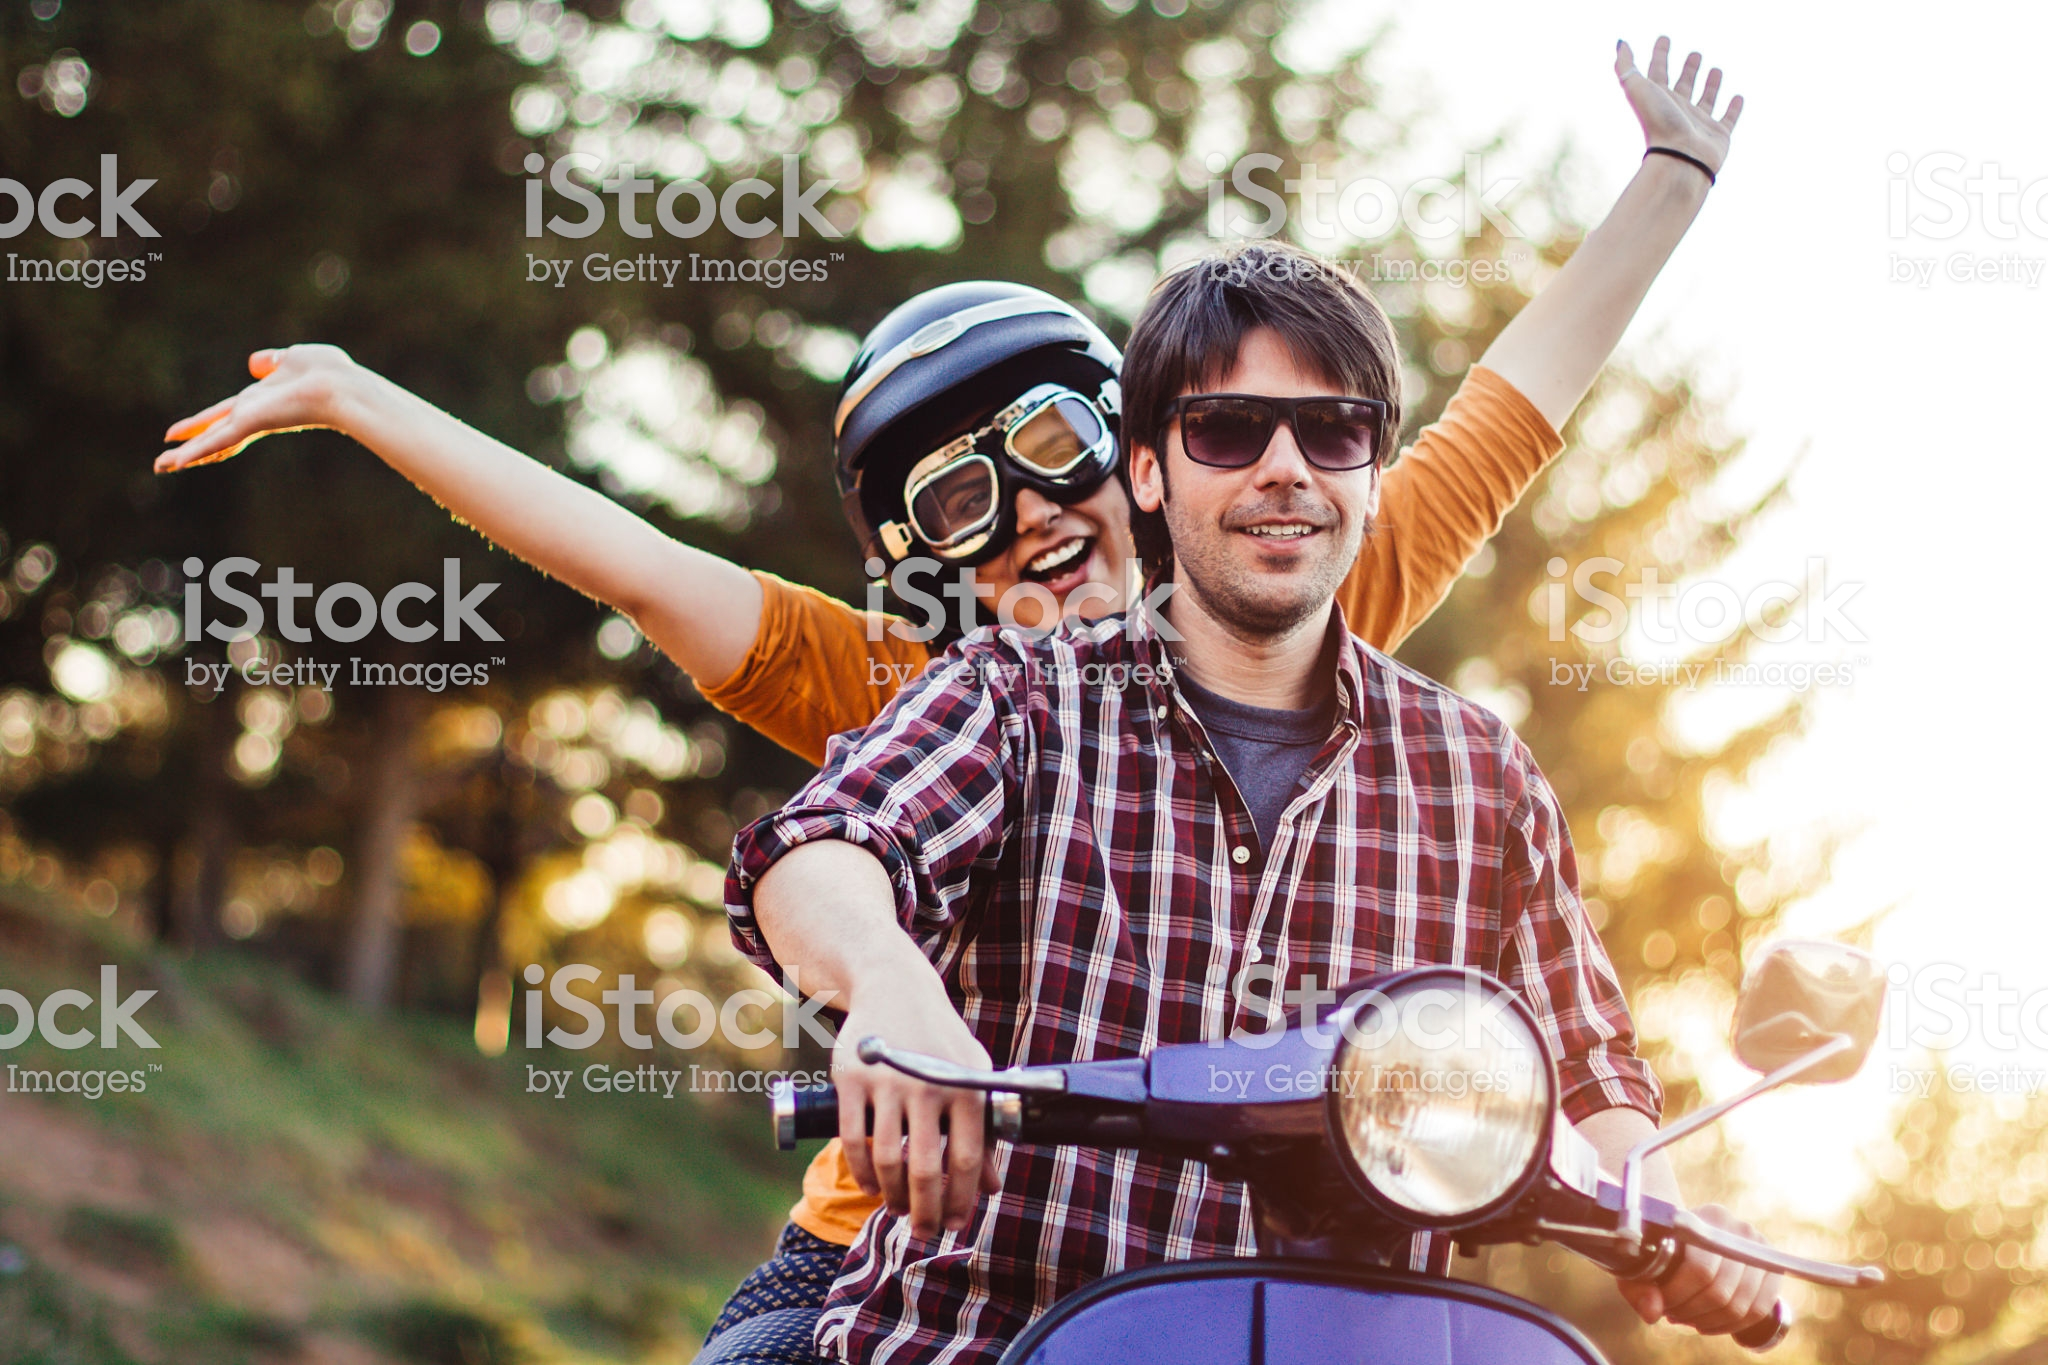helmet: (775, 265, 1142, 454)
